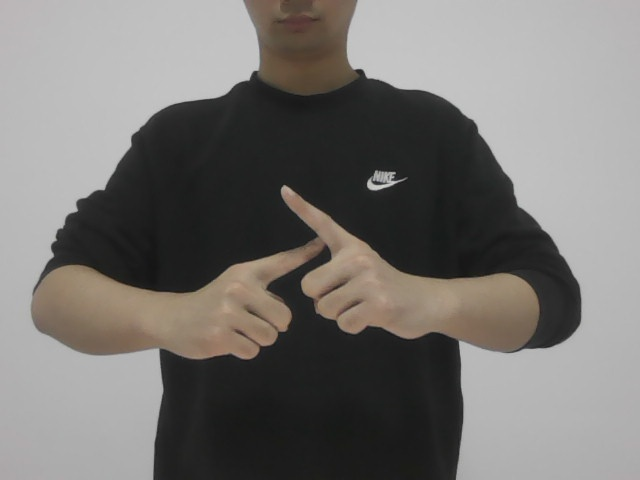peason: (191, 189, 424, 366)
